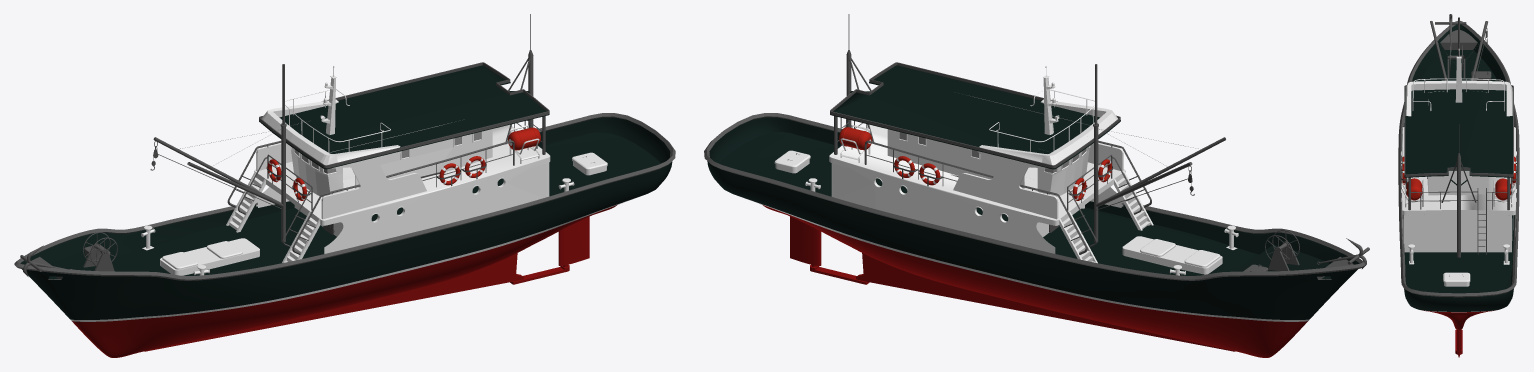
File: 障碍物2OK.FBX
The picture shows the model from 3 angles, left to right: view 1: azimuth 30°, elevation 25°; view 2: azimuth 150°, elevation 25°; view 3: azimuth 270°, elevation 25°; orthographic projection. The views are drawn at different scales.
Parts seen in each view (by area): view 1: 墨绿, 白, 红, 灰, 橘; view 2: 墨绿, 白, 红, 灰, 橘; view 3: 墨绿, 白, 灰, 橘, 红.
Part boxes in pixels (x1,y1,x2,y2): 墨绿: [20, 65, 672, 319]; 白: [70, 66, 636, 321]; 红: [72, 205, 616, 357]; 灰: [14, 14, 675, 280]; 橘: [267, 127, 540, 200]; 墨绿: [707, 65, 1359, 319]; 白: [742, 66, 1309, 321]; 红: [763, 205, 1307, 357]; 灰: [704, 14, 1369, 280]; 橘: [839, 127, 1111, 200]; 墨绿: [1403, 24, 1514, 311]; 白: [1401, 49, 1516, 312]; 灰: [1398, 14, 1519, 297]; 橘: [1402, 156, 1515, 200]; 红: [1423, 310, 1494, 357].
Size of the model in its own units: 127 by 51.61 by 25.37.
